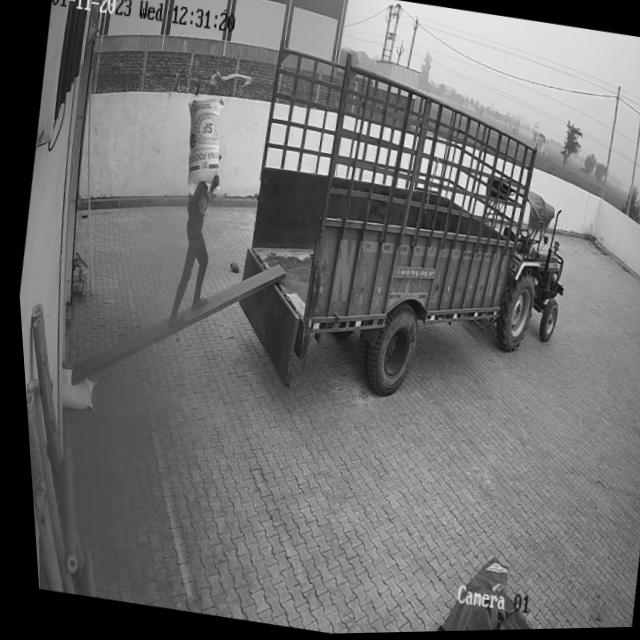sack: (169, 93, 231, 201), (49, 366, 92, 412)
